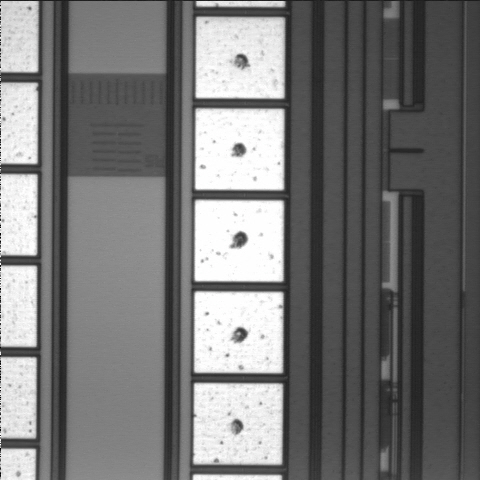pad: (194, 200, 284, 282), (193, 383, 283, 465), (196, 17, 285, 99), (194, 291, 283, 373), (195, 109, 284, 190)
